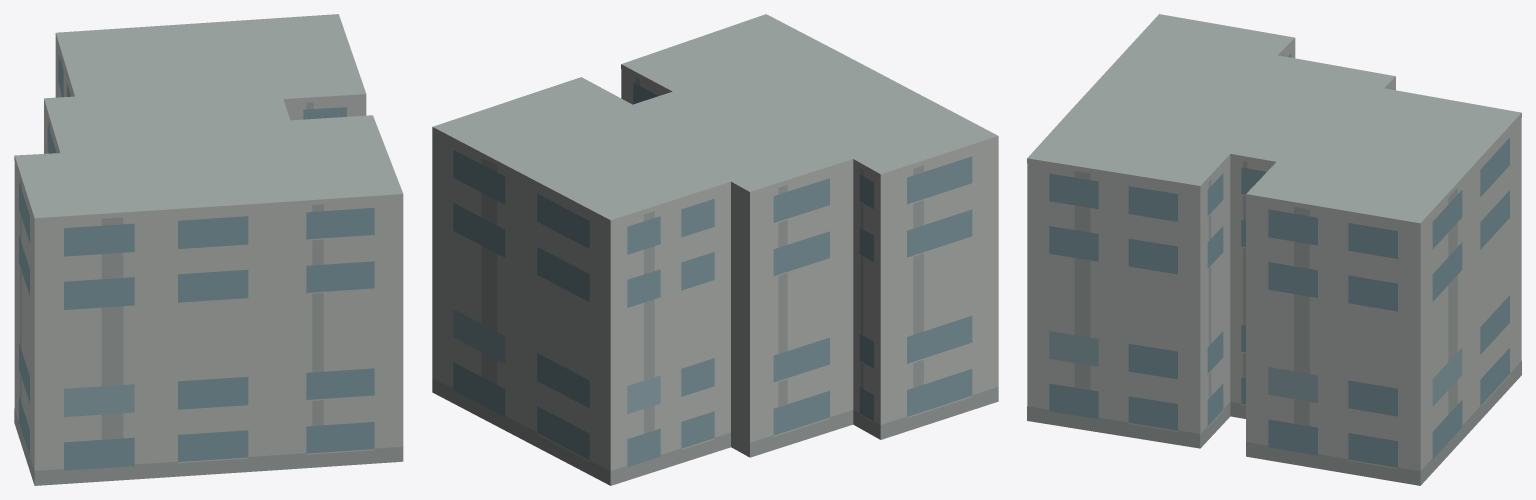
File: survey-upis-32838528.glb
3 views of the same model, side by side, from view 1: azimuth 30°, elevation 25°; view 2: azimuth 150°, elevation 25°; view 3: azimuth 270°, elevation 25° (orthographic).
Parts seen in each view (by area): view 1: survey-upis-32838528.tmp; view 2: survey-upis-32838528.tmp; view 3: survey-upis-32838528.tmp.
Boxes of the visible parts, x1=… form: survey-upis-32838528.tmp: x1=14, y1=14, x2=403, y2=485; survey-upis-32838528.tmp: x1=432, y1=14, x2=998, y2=485; survey-upis-32838528.tmp: x1=1027, y1=14, x2=1521, y2=485.
Size of the model in its own units: 22.41 by 13.1 by 22.38.
